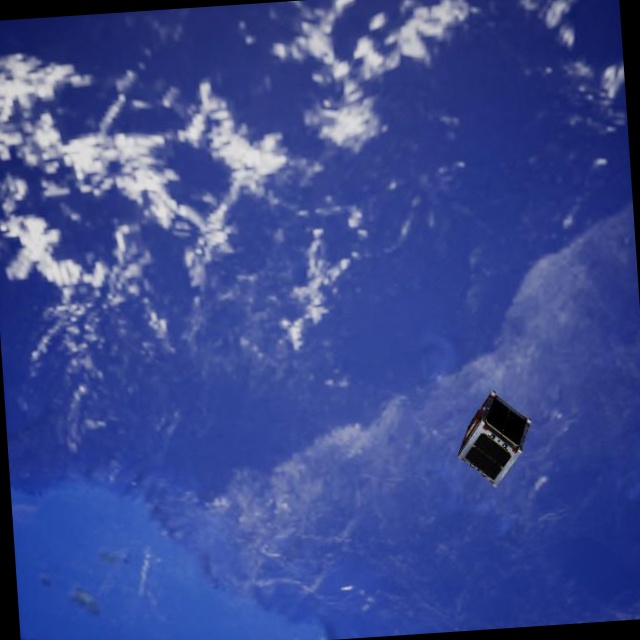satellite: (449, 385, 535, 492)
